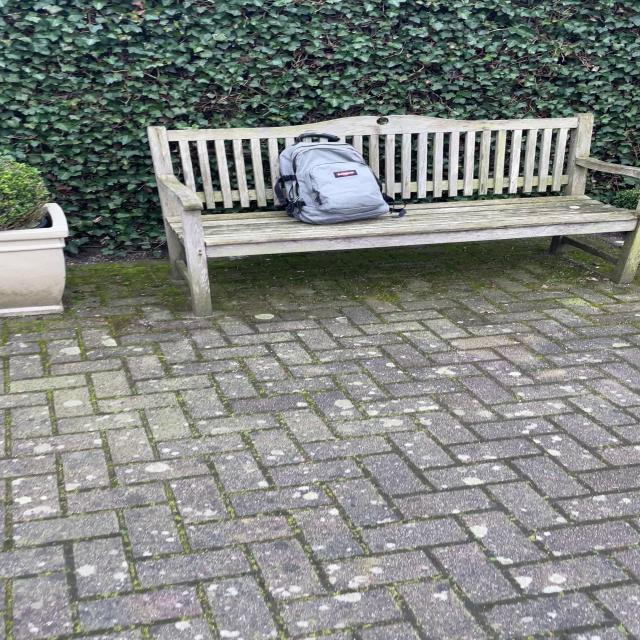backpack: (268, 130, 396, 227)
